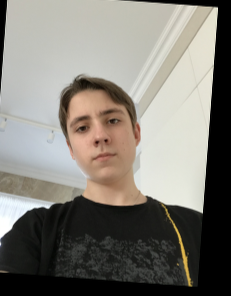without_mask: (64, 103, 135, 184)
